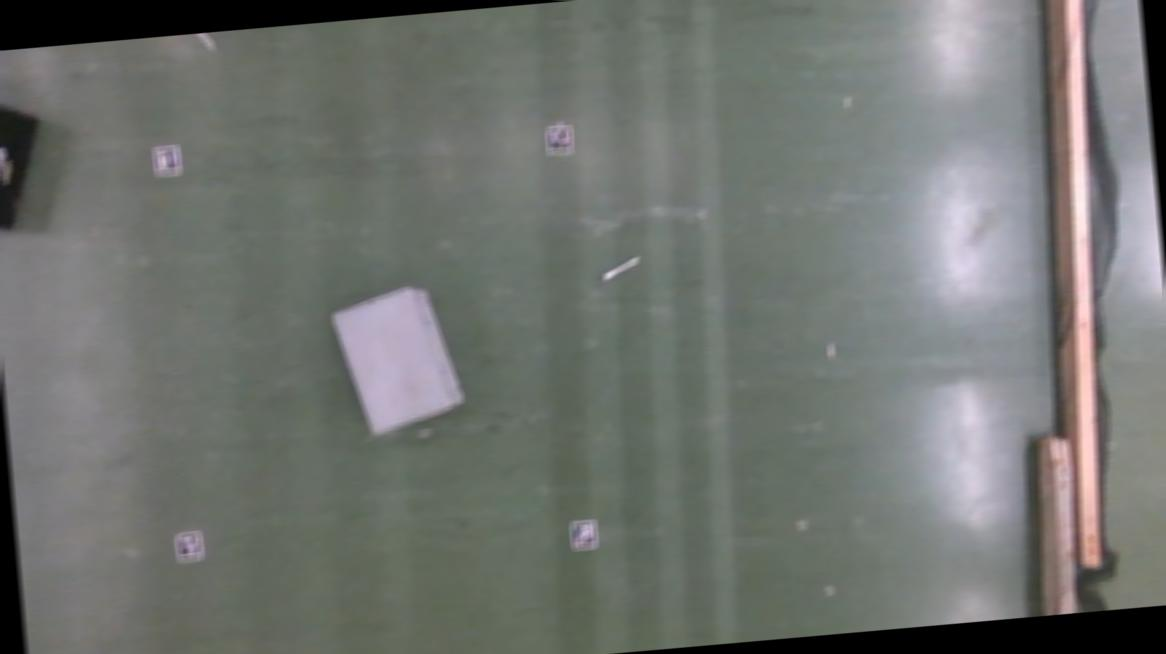probes: (602, 254, 641, 280), (186, 32, 214, 52)
rako: (329, 280, 467, 438), (0, 91, 46, 230)
